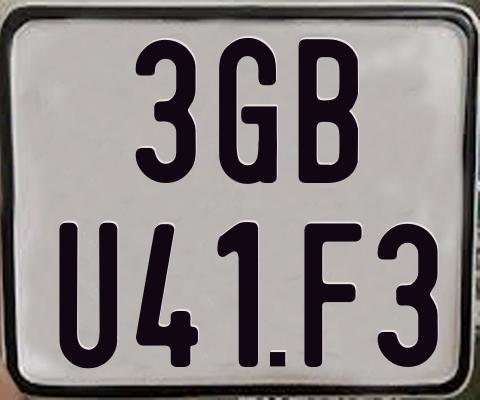1: (216, 222, 263, 372)
3: (375, 224, 441, 370), (134, 38, 195, 181)
4: (133, 221, 195, 368)
B: (298, 39, 360, 184)
F: (304, 220, 367, 364)
G: (219, 38, 283, 184)
U: (59, 220, 117, 365)
